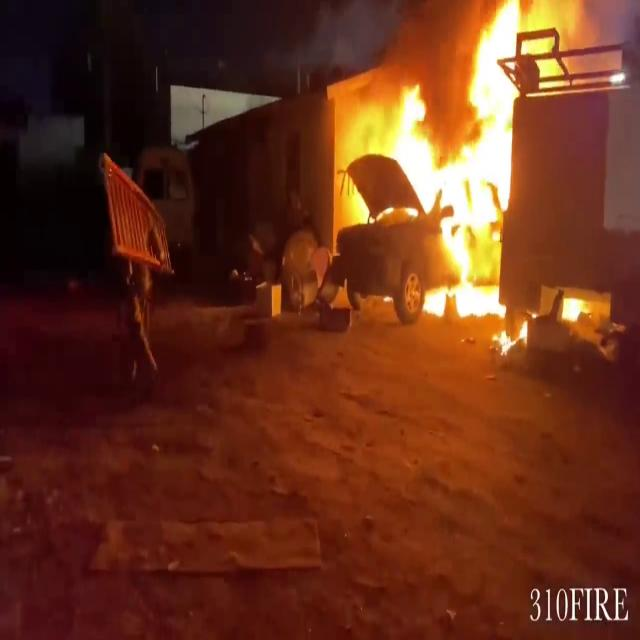Fire: (355, 0, 575, 338)
